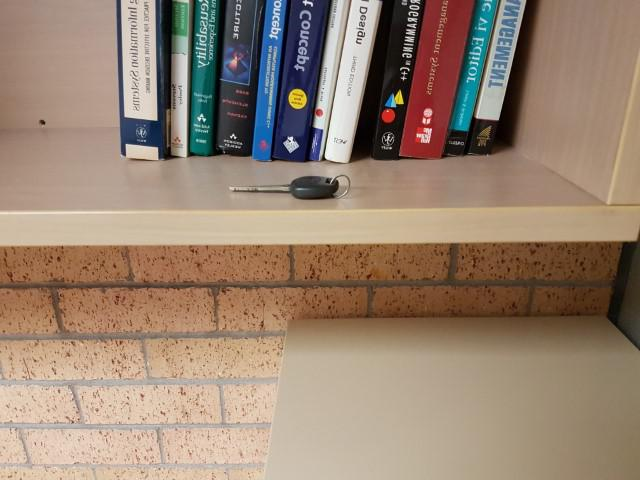key: (229, 176, 339, 198)
